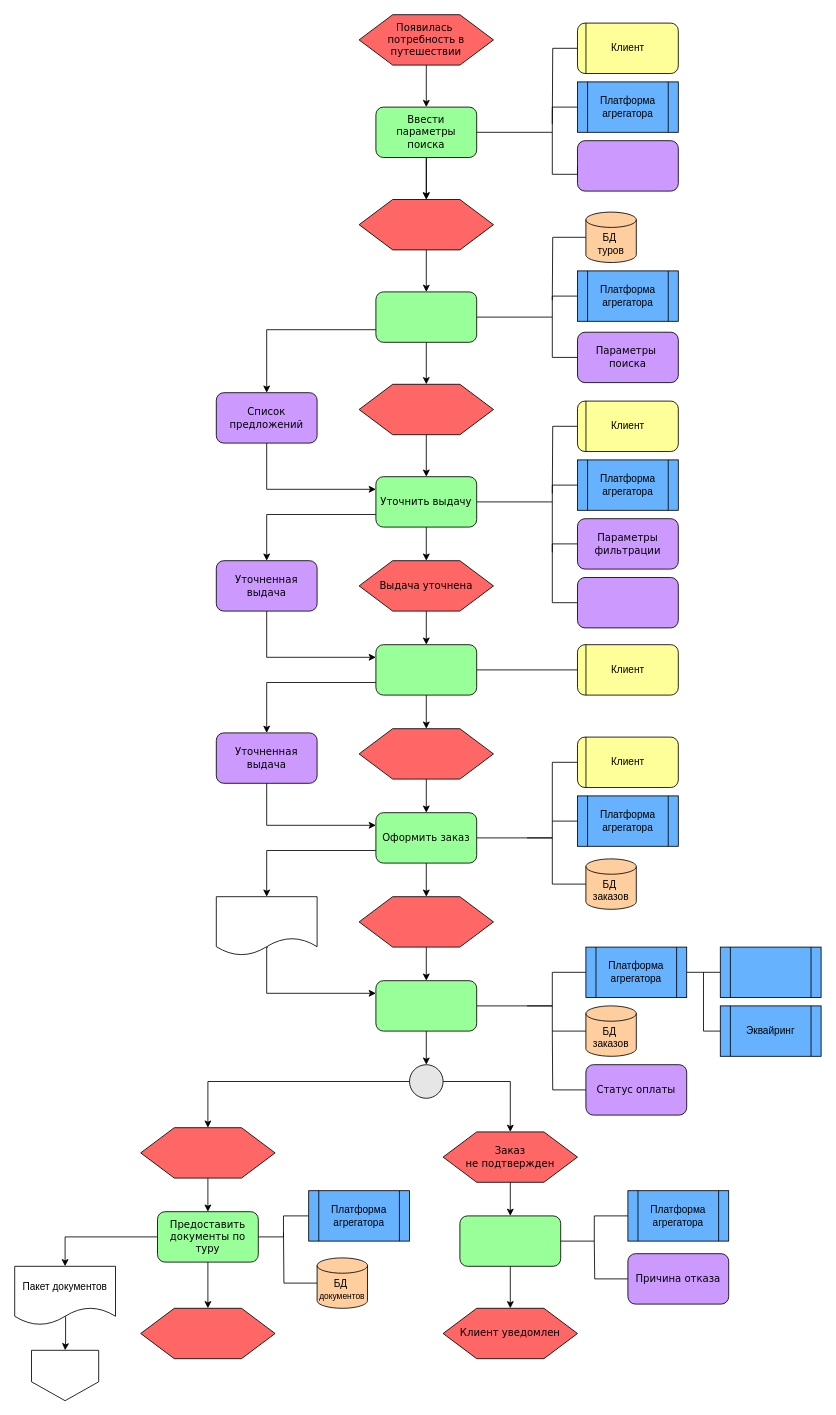
Some shapes in this 836 by 1415 pixel diagram are drawn without their labels. Here are the shapes that lost their labels. From the top down, the box of each, then its label:
(577, 140, 678, 191): Направление/даты/вылет/ кол-во человек
(358, 199, 494, 250): Параметры поиска заданы
(375, 291, 477, 342): Выполнить поиск предложений
(358, 383, 494, 435): Список предложений получен
(577, 577, 678, 628): Параметры сортировки
(375, 644, 477, 695): Выбрать тур
(358, 728, 494, 779): Подходящее предложение выбрано
(215, 896, 317, 956): Заявка на бронирование
(358, 896, 494, 947): Заказ сформирован
(719, 946, 821, 998): ИС туроператора
(375, 980, 477, 1031): Обработать заказ
(409, 1064, 443, 1098): XOR
(140, 1127, 275, 1178): Заказ одобрен
(459, 1215, 561, 1266): Уведомить клиента об отказе
(140, 1307, 275, 1359): Документы выданы клиенту
(31, 1349, 99, 1401): PDF-файл
